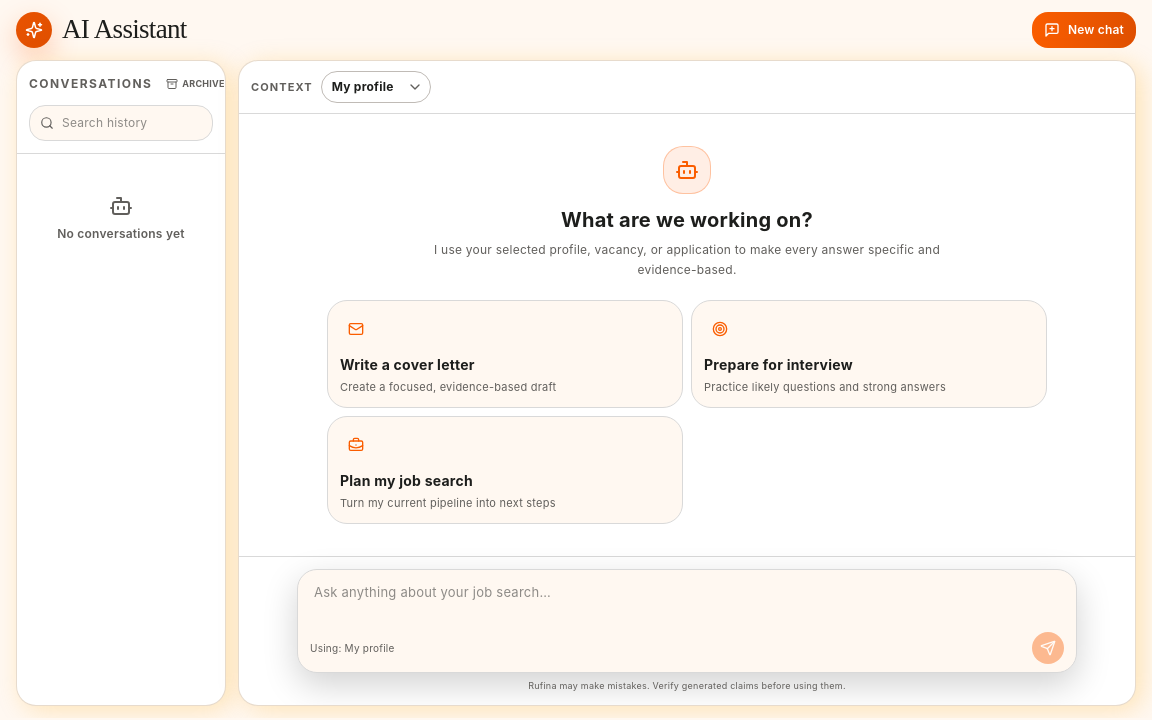
Test: does not retry a dropped POST stream automatically
This screenshot has width=1152, height=720.
Expected: the text "No conversations yet" is shown, 57,226 -> 185,240
Type "Update my headline" into the text box with placeholder "Ask anything about your job search…" at (687, 602), box 306,578 -> 1068,626
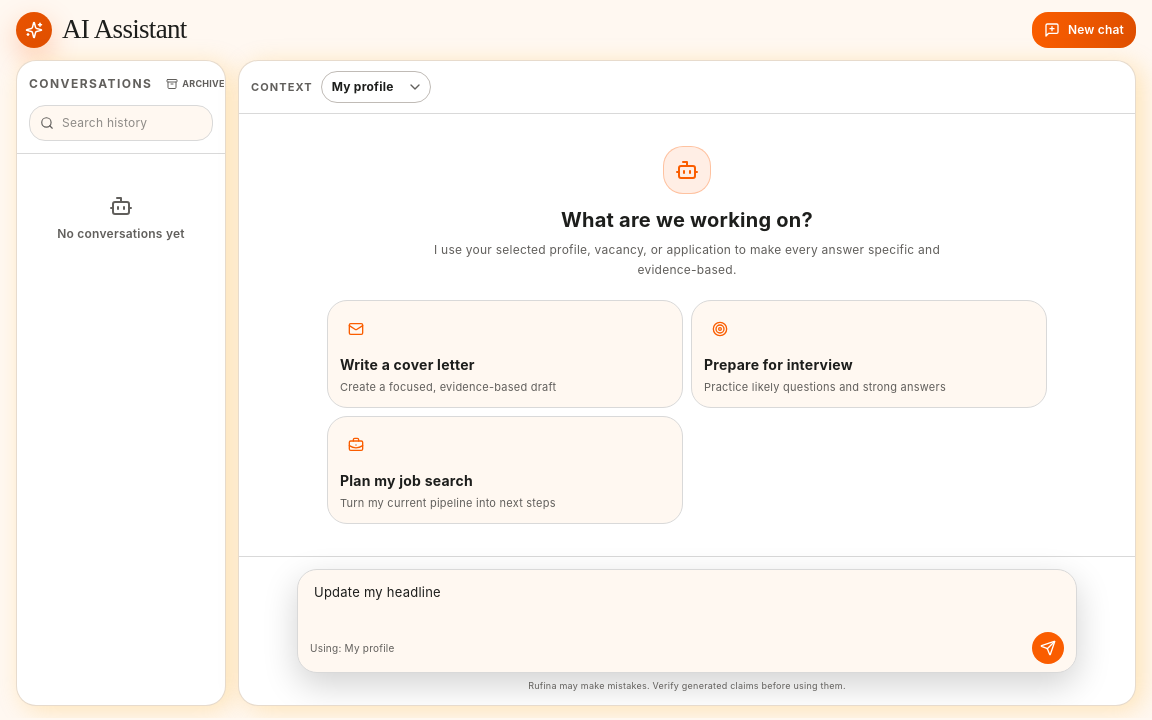
Click the button named "Send message" at (1048, 648), box 1032,632 -> 1064,664
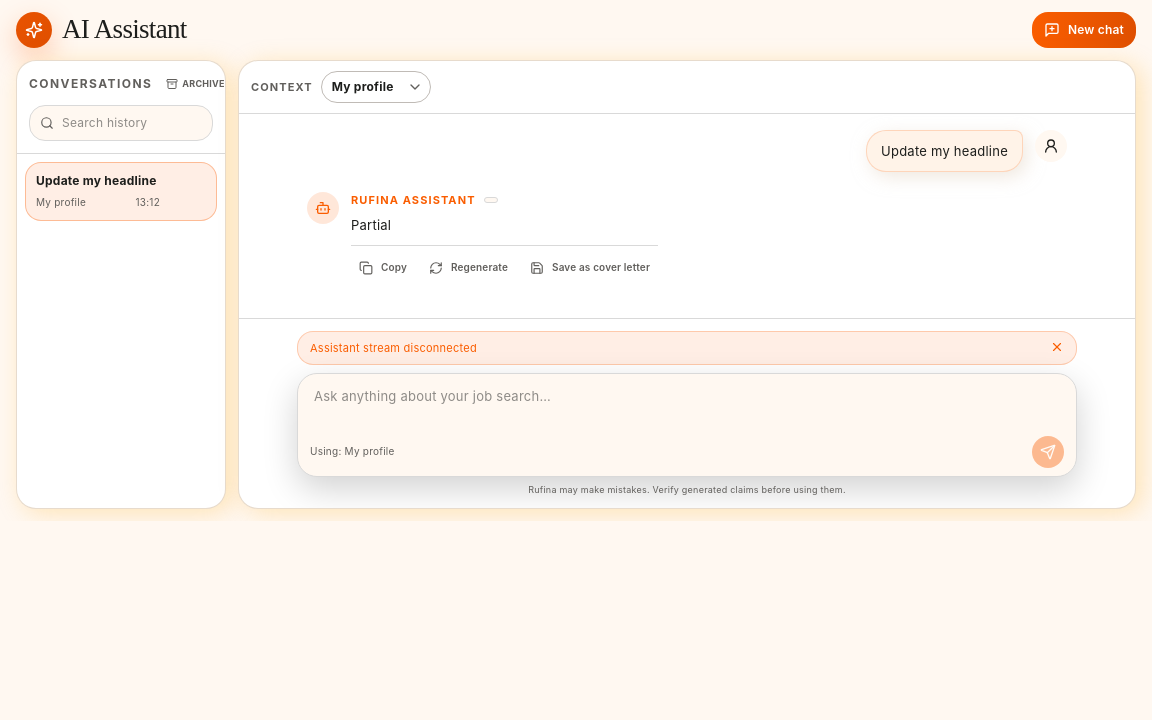
Expected: the text "Partial" is shown, 351,216 -> 395,232
Expected: the text "Assistant stream disconnected" is shown, 310,340 -> 477,354
